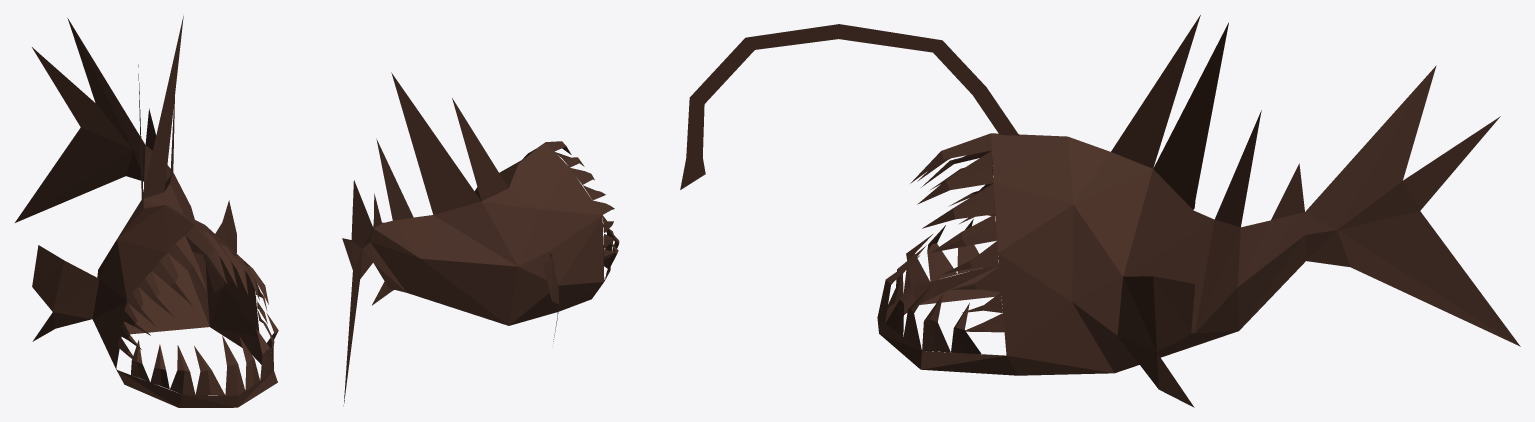
Rendered from pez_abisal_luz.glb.
3 views of the same model, side by side, from view 1: azimuth 30°, elevation 25°; view 2: azimuth 150°, elevation 25°; view 3: azimuth 270°, elevation 25° (orthographic). The views are drawn at different scales.
Visible parts, largest first — view 1: Plane; view 2: Plane; view 3: Plane.
Part boxes in pixels (x1,y1,x2,y2): Plane: [15, 16, 278, 407]; Plane: [342, 72, 619, 405]; Plane: [680, 15, 1520, 407].
Bounding box in the file's own units: 1.86 × 2.43 × 5.06.
